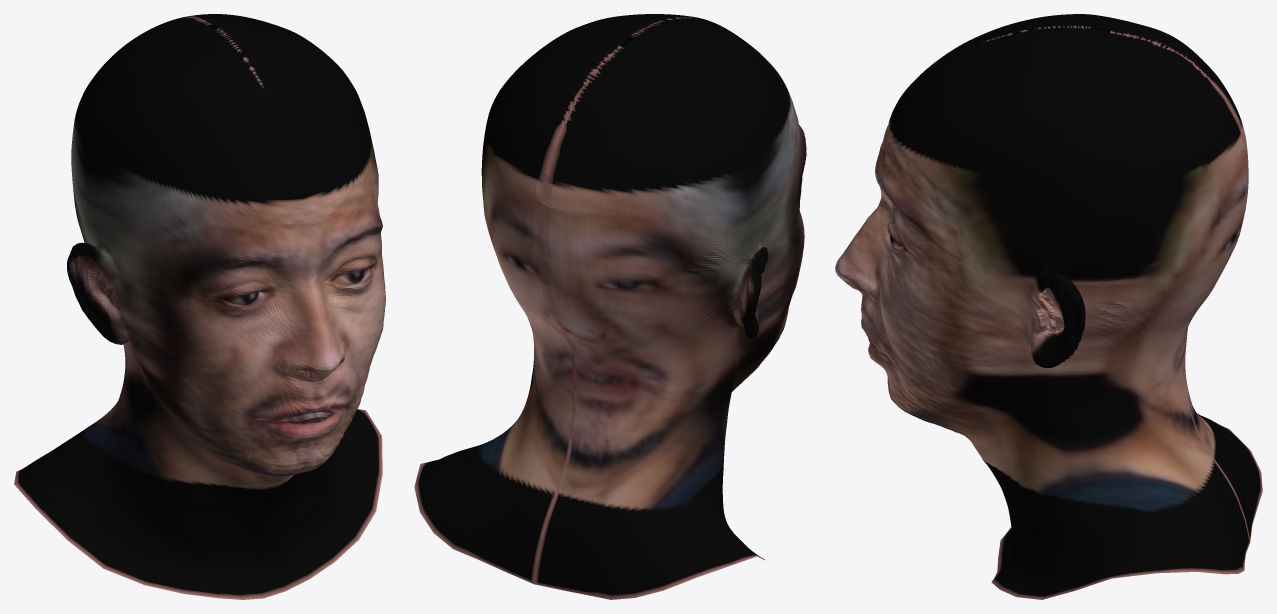
Rendered from mesh_coarse_detail.obj.
3 views of the same model, side by side, from view 1: azimuth 30°, elevation 25°; view 2: azimuth 150°, elevation 25°; view 3: azimuth 270°, elevation 25° (orthographic).
Size of the model in its own units: 0.2109 by 0.3234 by 0.2301.
